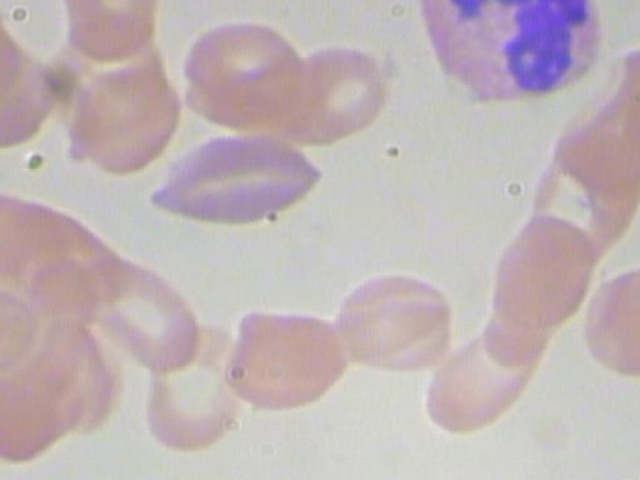RBC: (143, 130, 336, 232), (66, 49, 197, 179), (135, 319, 261, 450), (473, 211, 598, 330), (522, 130, 640, 253), (264, 40, 392, 143), (418, 331, 546, 433), (330, 270, 458, 372), (177, 15, 305, 117), (222, 307, 343, 408), (0, 185, 69, 285), (0, 362, 69, 462), (43, 474, 170, 480), (639, 440, 640, 480)
WBC: (420, 0, 609, 114)
